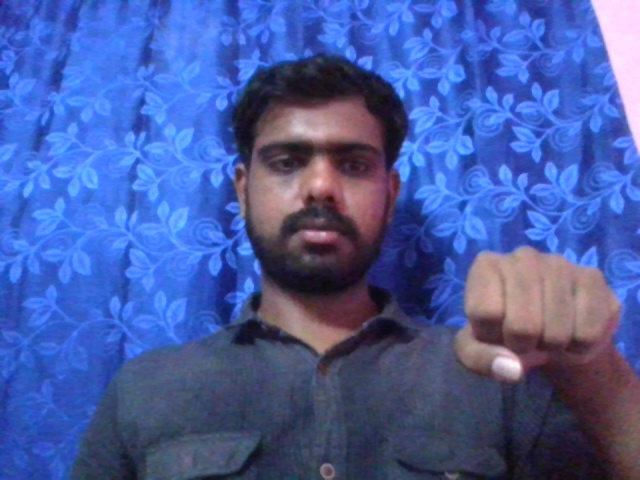Yes: (443, 227, 623, 384)
